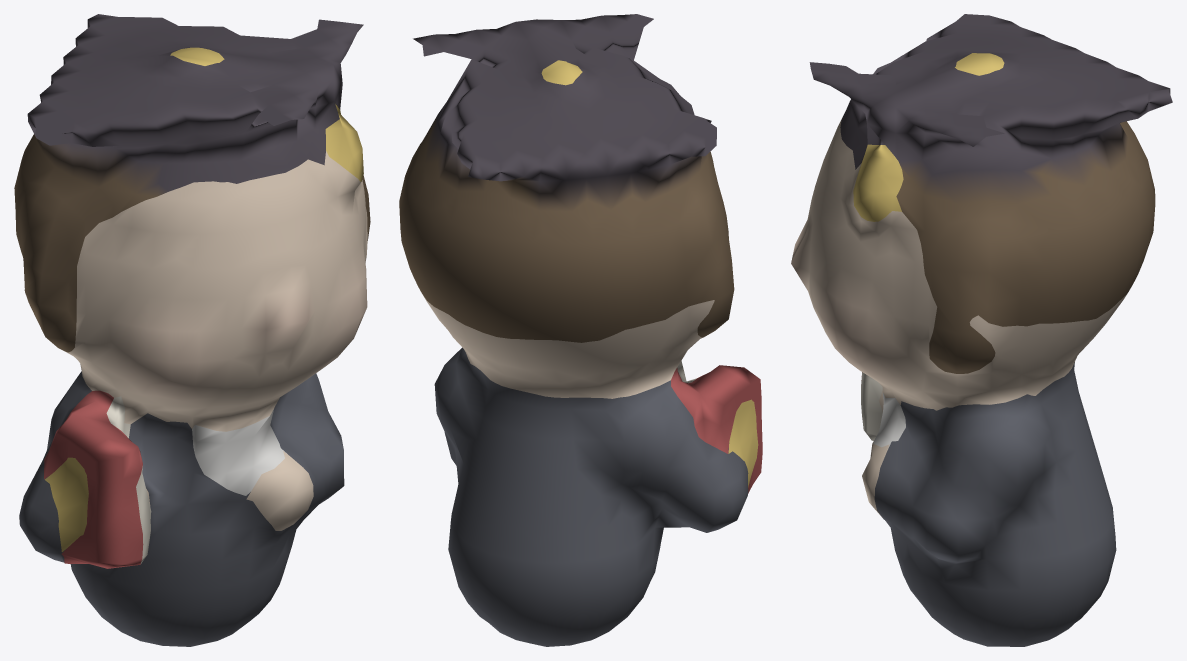
File: rider_c06_lo.glb
3 renders of one model, left to right at view 1: azimuth 30°, elevation 25°; view 2: azimuth 150°, elevation 25°; view 3: azimuth 270°, elevation 25°, orthographic. The views are drawn at different scales.
Parts seen in each view (by area): view 1: rider_c06_lo; view 2: rider_c06_lo; view 3: rider_c06_lo.
Part boxes in pixels (<box>): rider_c06_lo: <box>14,14,370,646</box>; rider_c06_lo: <box>399,14,762,646</box>; rider_c06_lo: <box>791,14,1172,646</box>.
Bounding box in the file's own units: 25.48 × 41.6 × 24.94.
